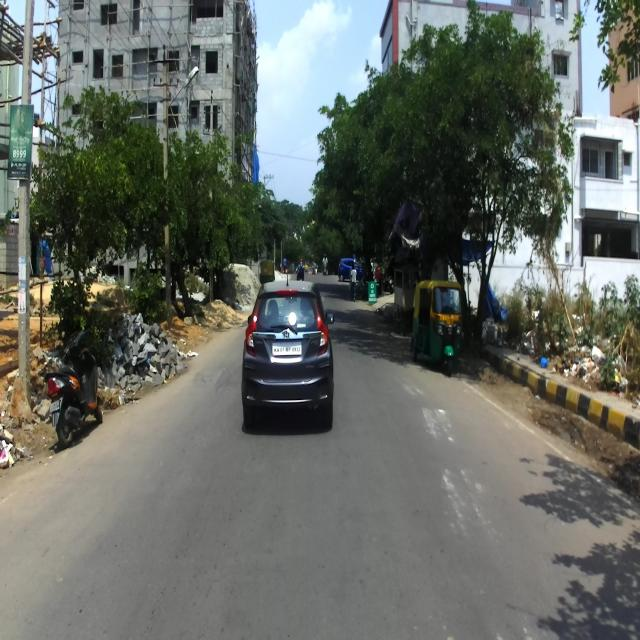autorickshaw: (410, 279, 464, 376)
car: (242, 268, 336, 432)
scooter: (41, 329, 103, 448)
